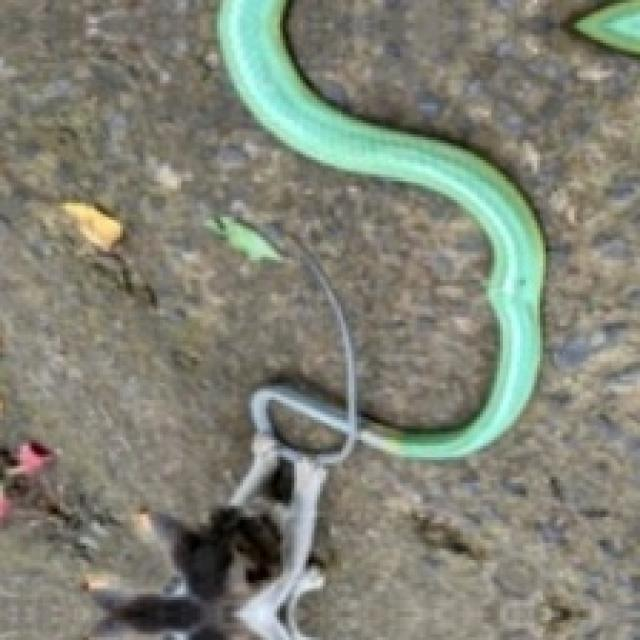red-tailed green ratsnake: (222, 0, 545, 459), (250, 240, 358, 464)
